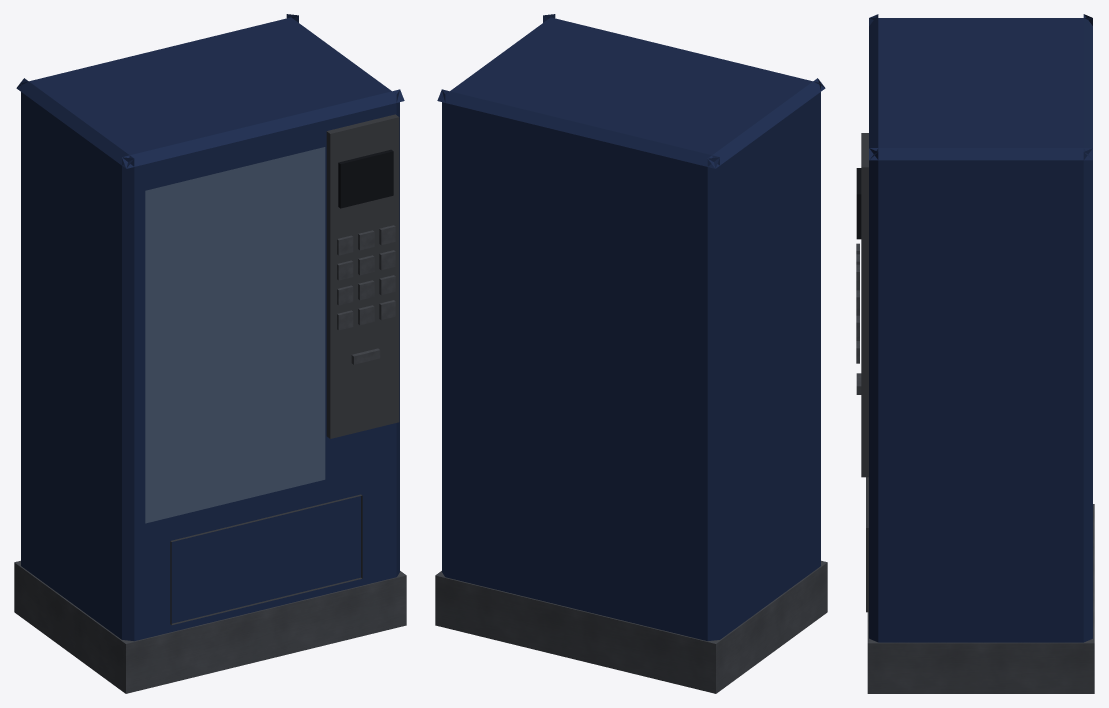
The model's file is vending_machine.obj.
The picture shows the model from 3 angles, left to right: view 1: azimuth 30°, elevation 25°; view 2: azimuth 150°, elevation 25°; view 3: azimuth 270°, elevation 25°; orthographic projection.
Visible parts, largest first — view 1: vending_machine; view 2: vending_machine; view 3: vending_machine.
Part boxes in pixels (x1,y1,x2,y2): vending_machine: (14, 14, 406, 693); vending_machine: (435, 14, 827, 693); vending_machine: (856, 14, 1094, 693).
Size of the model in its own units: 1.06 by 1.92 by 0.766.
